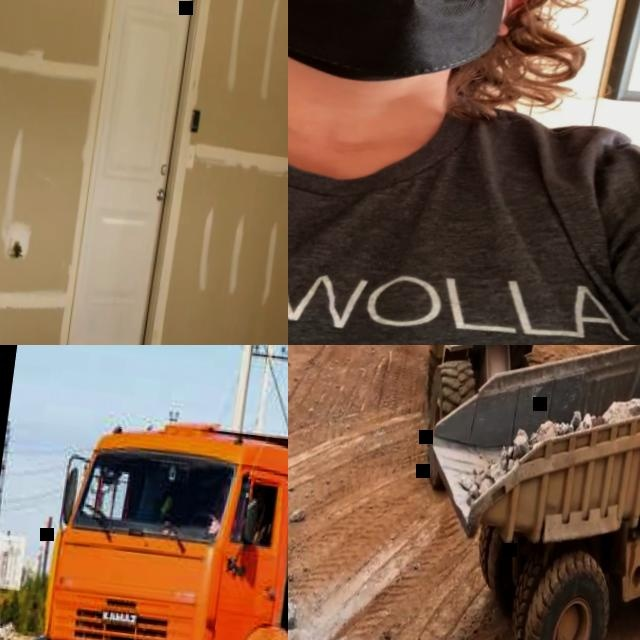Mask: (288, 0, 522, 98)
NO-Safety Vest: (288, 60, 640, 345)
Person: (288, 0, 640, 345), (209, 486, 250, 541)
machinery: (399, 345, 640, 640), (8, 391, 288, 640), (405, 345, 640, 518)
vehicle: (26, 633, 50, 640)
